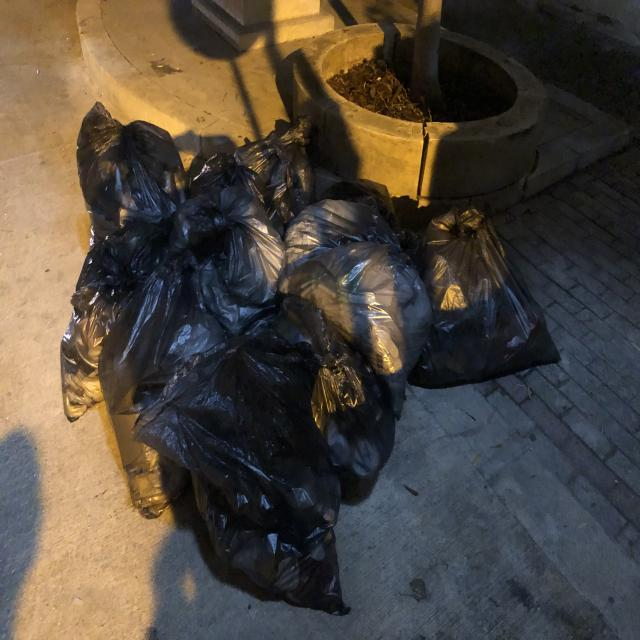Mixed Waste -Black Bag-: (131, 330, 356, 620), (99, 257, 271, 470), (395, 195, 563, 393), (269, 298, 397, 501), (279, 241, 426, 404), (62, 224, 180, 426), (77, 103, 190, 249), (283, 185, 389, 280), (237, 114, 321, 230), (188, 153, 285, 237)
